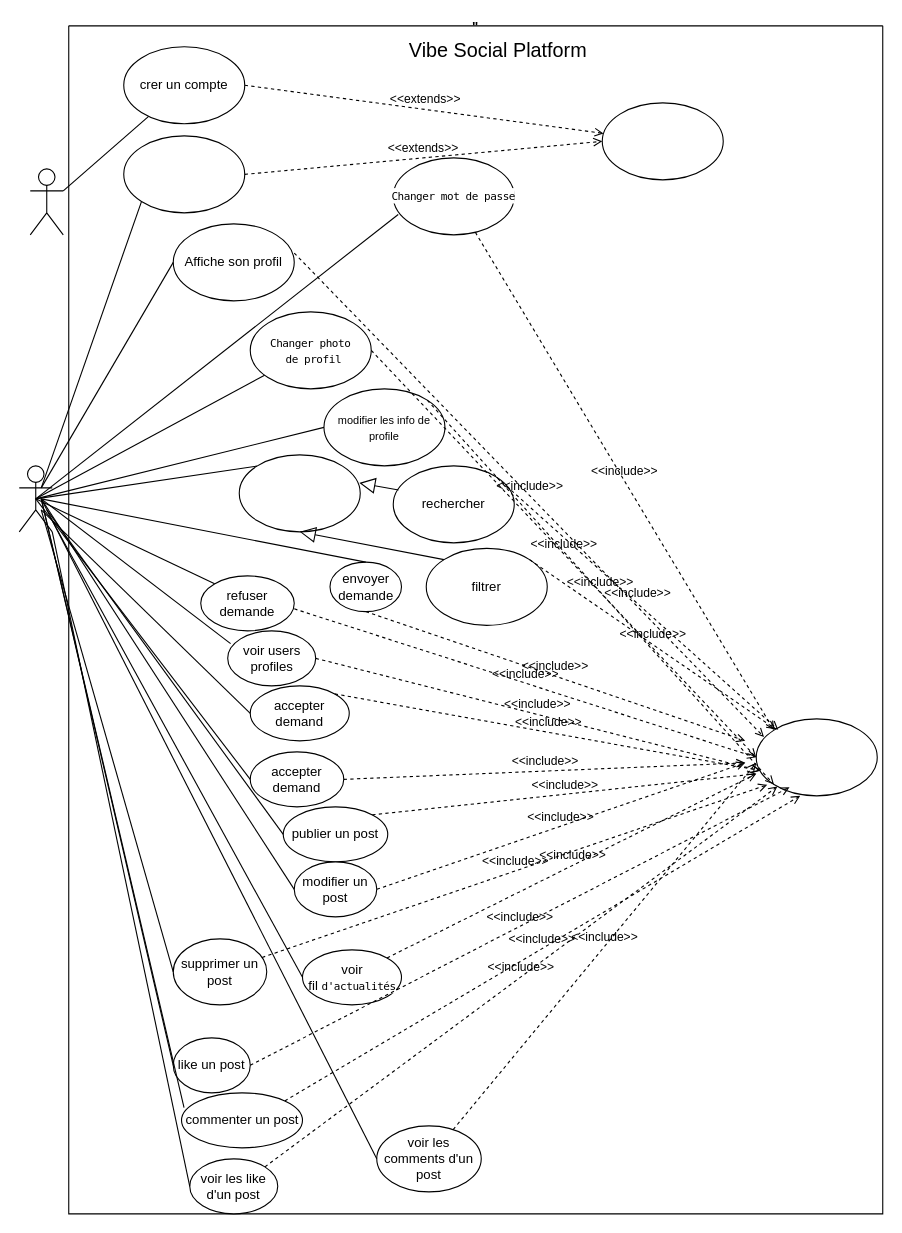
This 902x1233 diagram has some shape labels left out. Each missing label, with the centre of its shape:
authentification: the point at 816,757
réinitialiser mot de passe: the point at 184,174
user: the point at 35,498
visiteur: the point at 46,201
voir les user: the point at 299,493
Vérifier email: the point at 662,141
